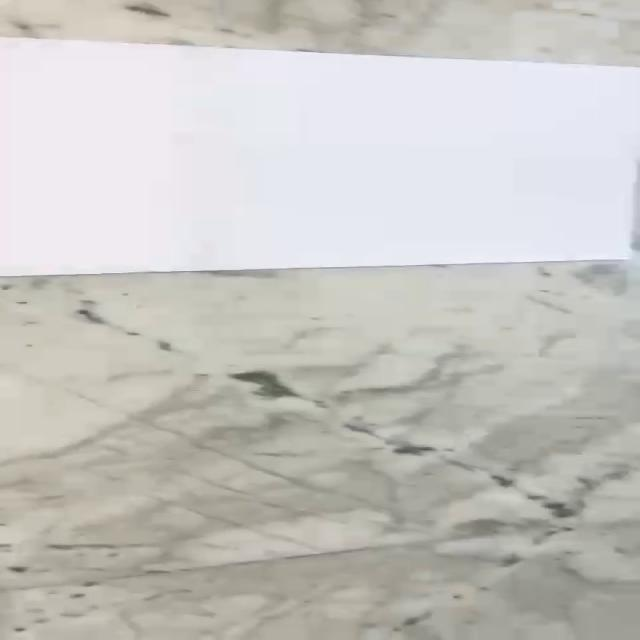road: (0, 35, 640, 277)
